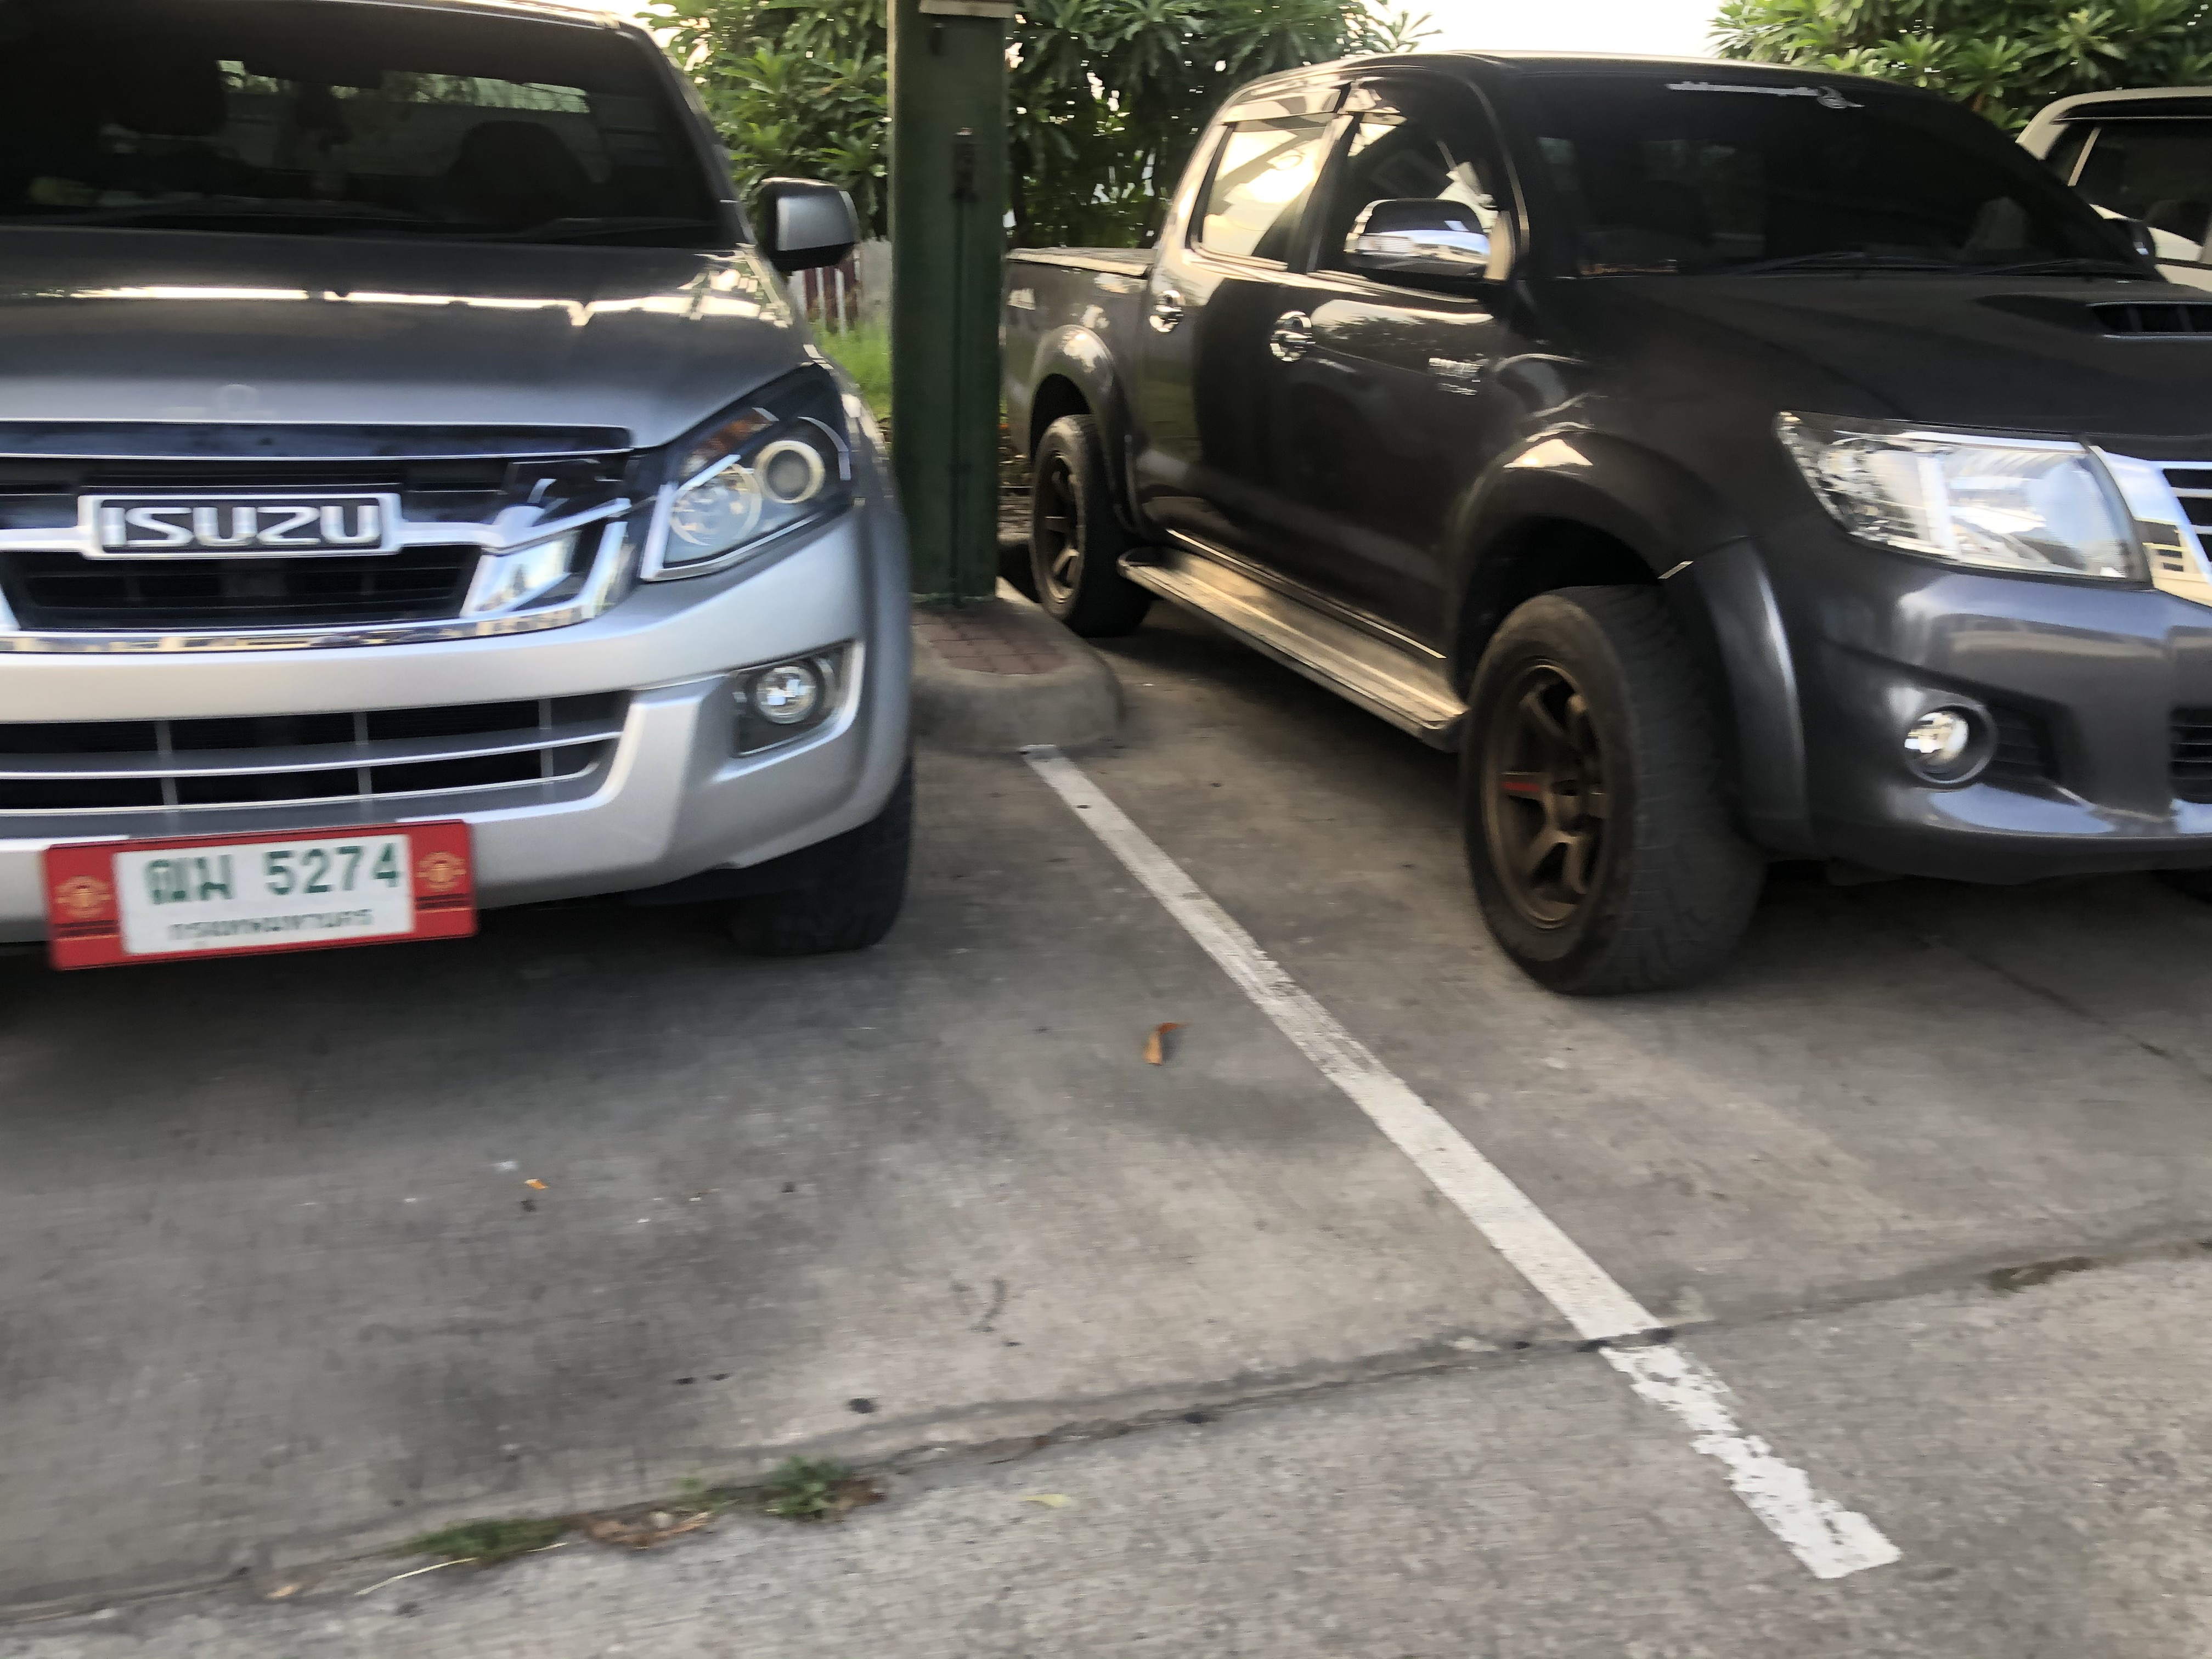in: (115, 831, 415, 953)
out: (40, 809, 482, 969)
